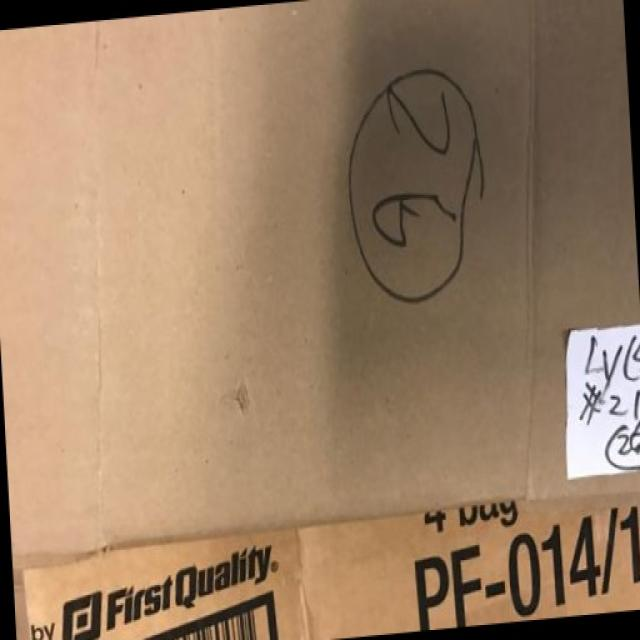carton: (117, 92, 563, 591)
